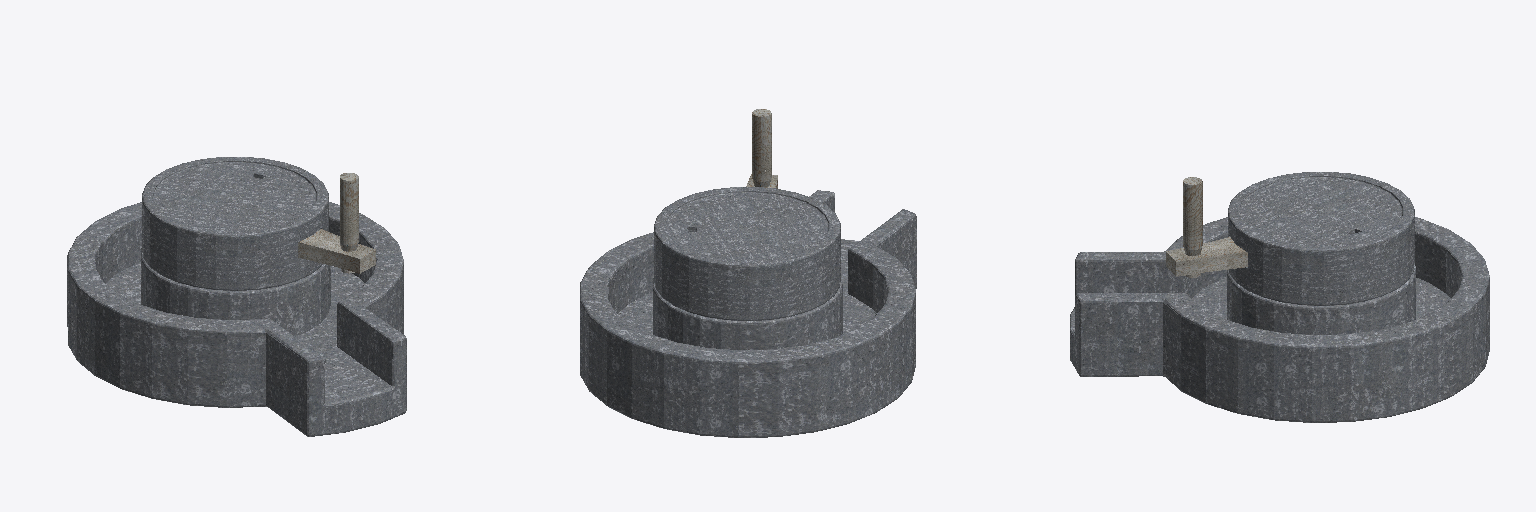
3 renders of one model, left to right at view 1: azimuth 30°, elevation 25°; view 2: azimuth 150°, elevation 25°; view 3: azimuth 270°, elevation 25°, orthographic.
Parts seen in each view (by area): view 1: group1 shimo:Cylinder005, group1 shimo:Cylinder006, group1 shimo:Box006, group1 shimo:Cylinder012; view 2: group1 shimo:Cylinder005, group1 shimo:Cylinder006, group1 shimo:Cylinder012; view 3: group1 shimo:Cylinder005, group1 shimo:Cylinder006, group1 shimo:Box006, group1 shimo:Cylinder012.
Part boxes in pixels (bbox=[...]): group1 shimo:Cylinder005: bbox=[67, 202, 406, 436]; group1 shimo:Cylinder006: bbox=[142, 157, 328, 290]; group1 shimo:Box006: bbox=[298, 229, 375, 273]; group1 shimo:Cylinder012: bbox=[340, 173, 358, 273]; group1 shimo:Cylinder005: bbox=[580, 190, 916, 437]; group1 shimo:Cylinder006: bbox=[654, 187, 840, 320]; group1 shimo:Cylinder012: bbox=[752, 109, 771, 187]; group1 shimo:Cylinder005: bbox=[1070, 217, 1489, 422]; group1 shimo:Cylinder006: bbox=[1228, 172, 1414, 305]; group1 shimo:Box006: bbox=[1166, 237, 1247, 276]; group1 shimo:Cylinder012: bbox=[1183, 177, 1202, 277].
Bounding box in the file's own units: 118 × 76.51 × 147.
Materials: 3 (2 with a texture image).